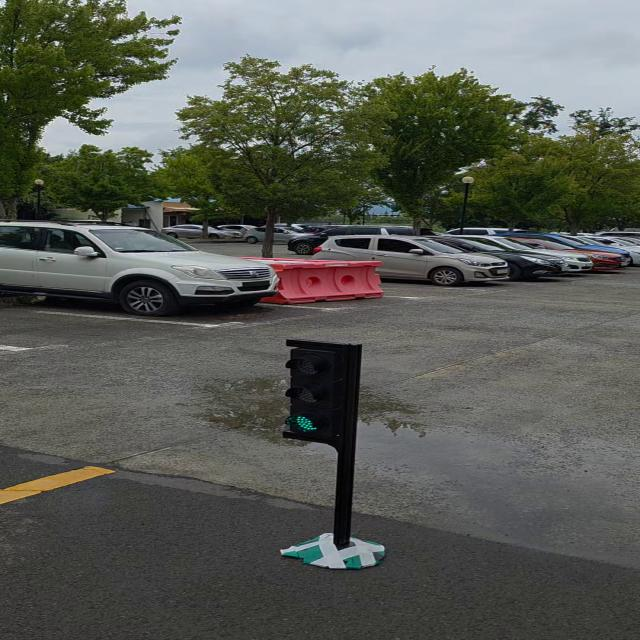green: (281, 343, 360, 448)
